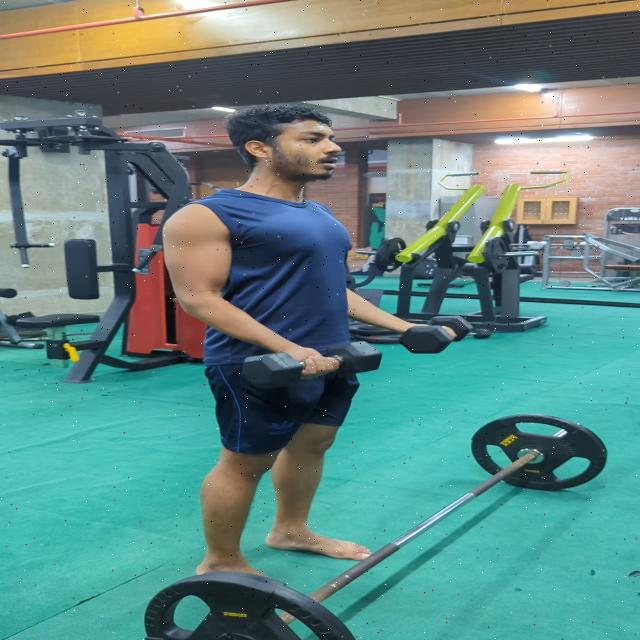Normal_DumbbellBicepCurls: (155, 103, 464, 581)
